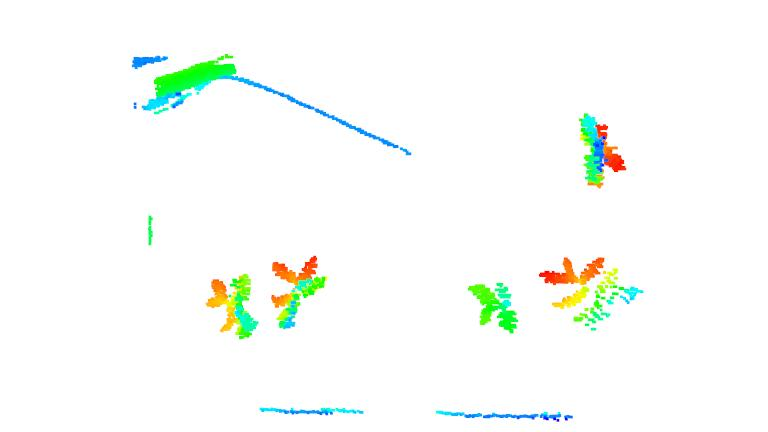chickpea: (536, 253, 644, 331), (264, 254, 330, 330), (204, 271, 265, 343), (576, 111, 627, 189), (470, 281, 523, 338)
